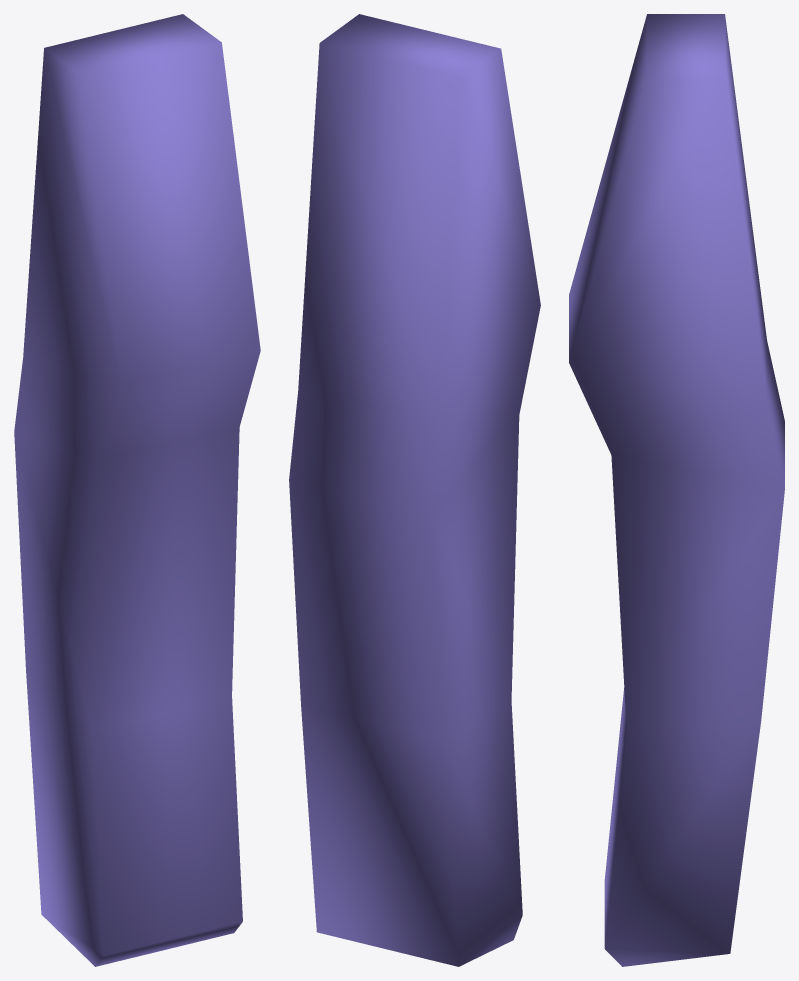
File: Cactus_Tall_02_SPR_COL.fbx
3 renders of one model, left to right at view 1: azimuth 30°, elevation 25°; view 2: azimuth 150°, elevation 25°; view 3: azimuth 270°, elevation 25°, orthographic. The views are drawn at different scales.
Parts seen in each view (by area): view 1: Cactus_Tall_02_SPR_COL; view 2: Cactus_Tall_02_SPR_COL; view 3: Cactus_Tall_02_SPR_COL.
Boxes of the visible parts, x1,y1,x2,y2 form: Cactus_Tall_02_SPR_COL: [14, 14, 260, 966]; Cactus_Tall_02_SPR_COL: [289, 14, 540, 966]; Cactus_Tall_02_SPR_COL: [569, 14, 784, 966].
Size of the model in its own units: 66.62 by 404 by 89.34.
